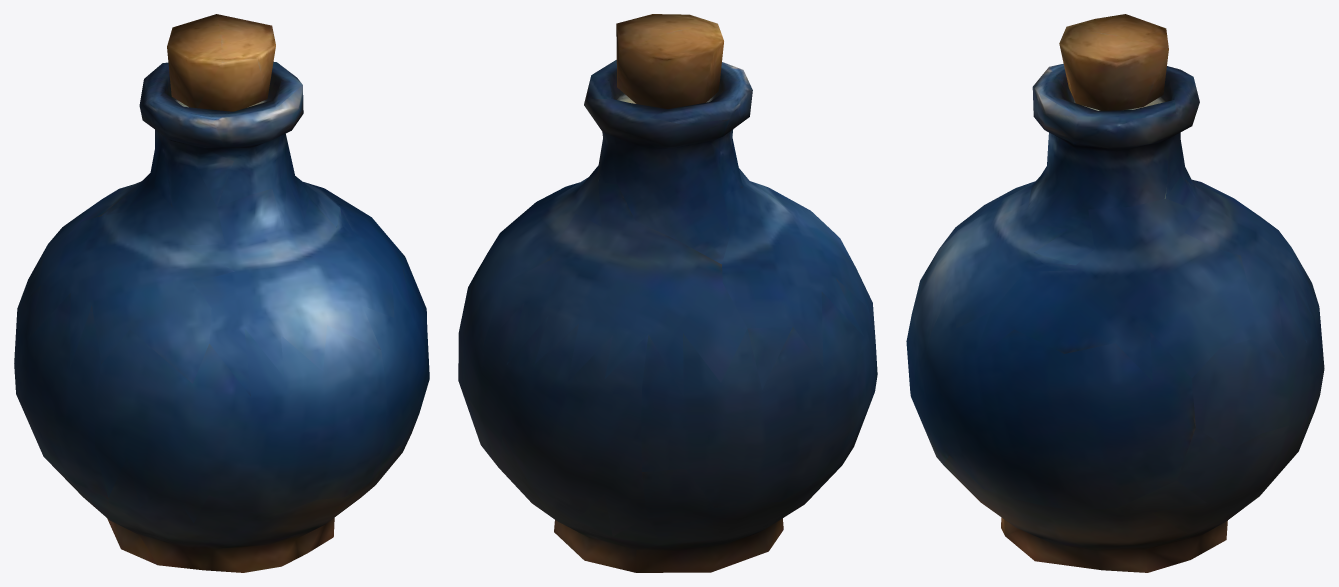
The model's file is agua-mobile.glb.
The picture shows the model from 3 angles, left to right: view 1: azimuth 30°, elevation 25°; view 2: azimuth 150°, elevation 25°; view 3: azimuth 270°, elevation 25°; orthographic projection.
Parts seen in each view (by area): view 1: tripo_node_2e922187-b430-4e3e-95f0-1070b065f118; view 2: tripo_node_2e922187-b430-4e3e-95f0-1070b065f118; view 3: tripo_node_2e922187-b430-4e3e-95f0-1070b065f118.
Boxes of the visible parts, box(x1,y1,x2,y2) form: tripo_node_2e922187-b430-4e3e-95f0-1070b065f118: box(14, 14, 429, 572); tripo_node_2e922187-b430-4e3e-95f0-1070b065f118: box(458, 14, 877, 572); tripo_node_2e922187-b430-4e3e-95f0-1070b065f118: box(906, 14, 1324, 572).
Size of the model in its own units: 0.7533 by 0.9786 by 0.7557.
Materials: 1 (1 with a texture image).
